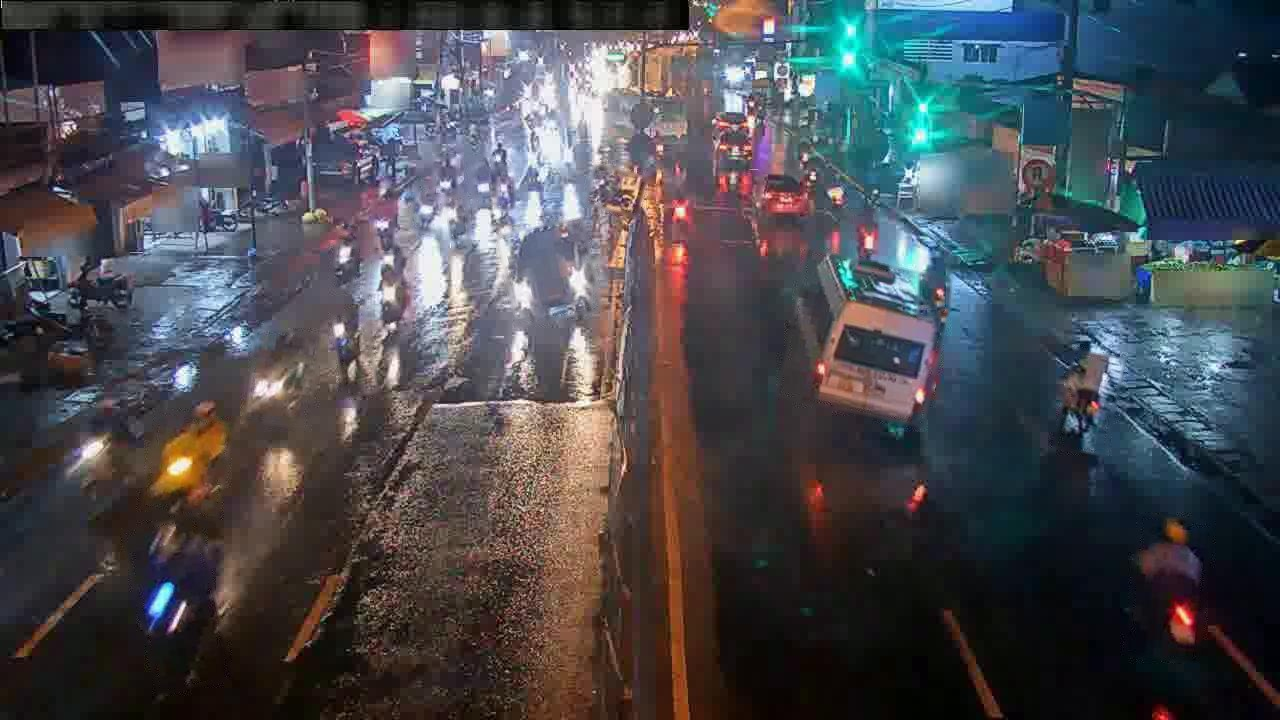Bus: (814, 254, 940, 427)
Car: (513, 223, 592, 321), (758, 174, 810, 217), (825, 185, 846, 210)
Motorcyclist: (139, 520, 223, 681), (1134, 519, 1202, 648), (147, 401, 226, 512), (246, 330, 312, 417), (1058, 343, 1109, 448), (69, 259, 134, 311), (332, 309, 365, 389), (375, 253, 409, 328), (592, 168, 641, 212), (920, 257, 949, 311), (374, 184, 394, 252), (334, 230, 358, 285), (854, 210, 878, 260), (416, 189, 443, 233), (449, 200, 471, 249), (474, 157, 496, 202), (495, 167, 515, 213), (436, 157, 453, 193)
